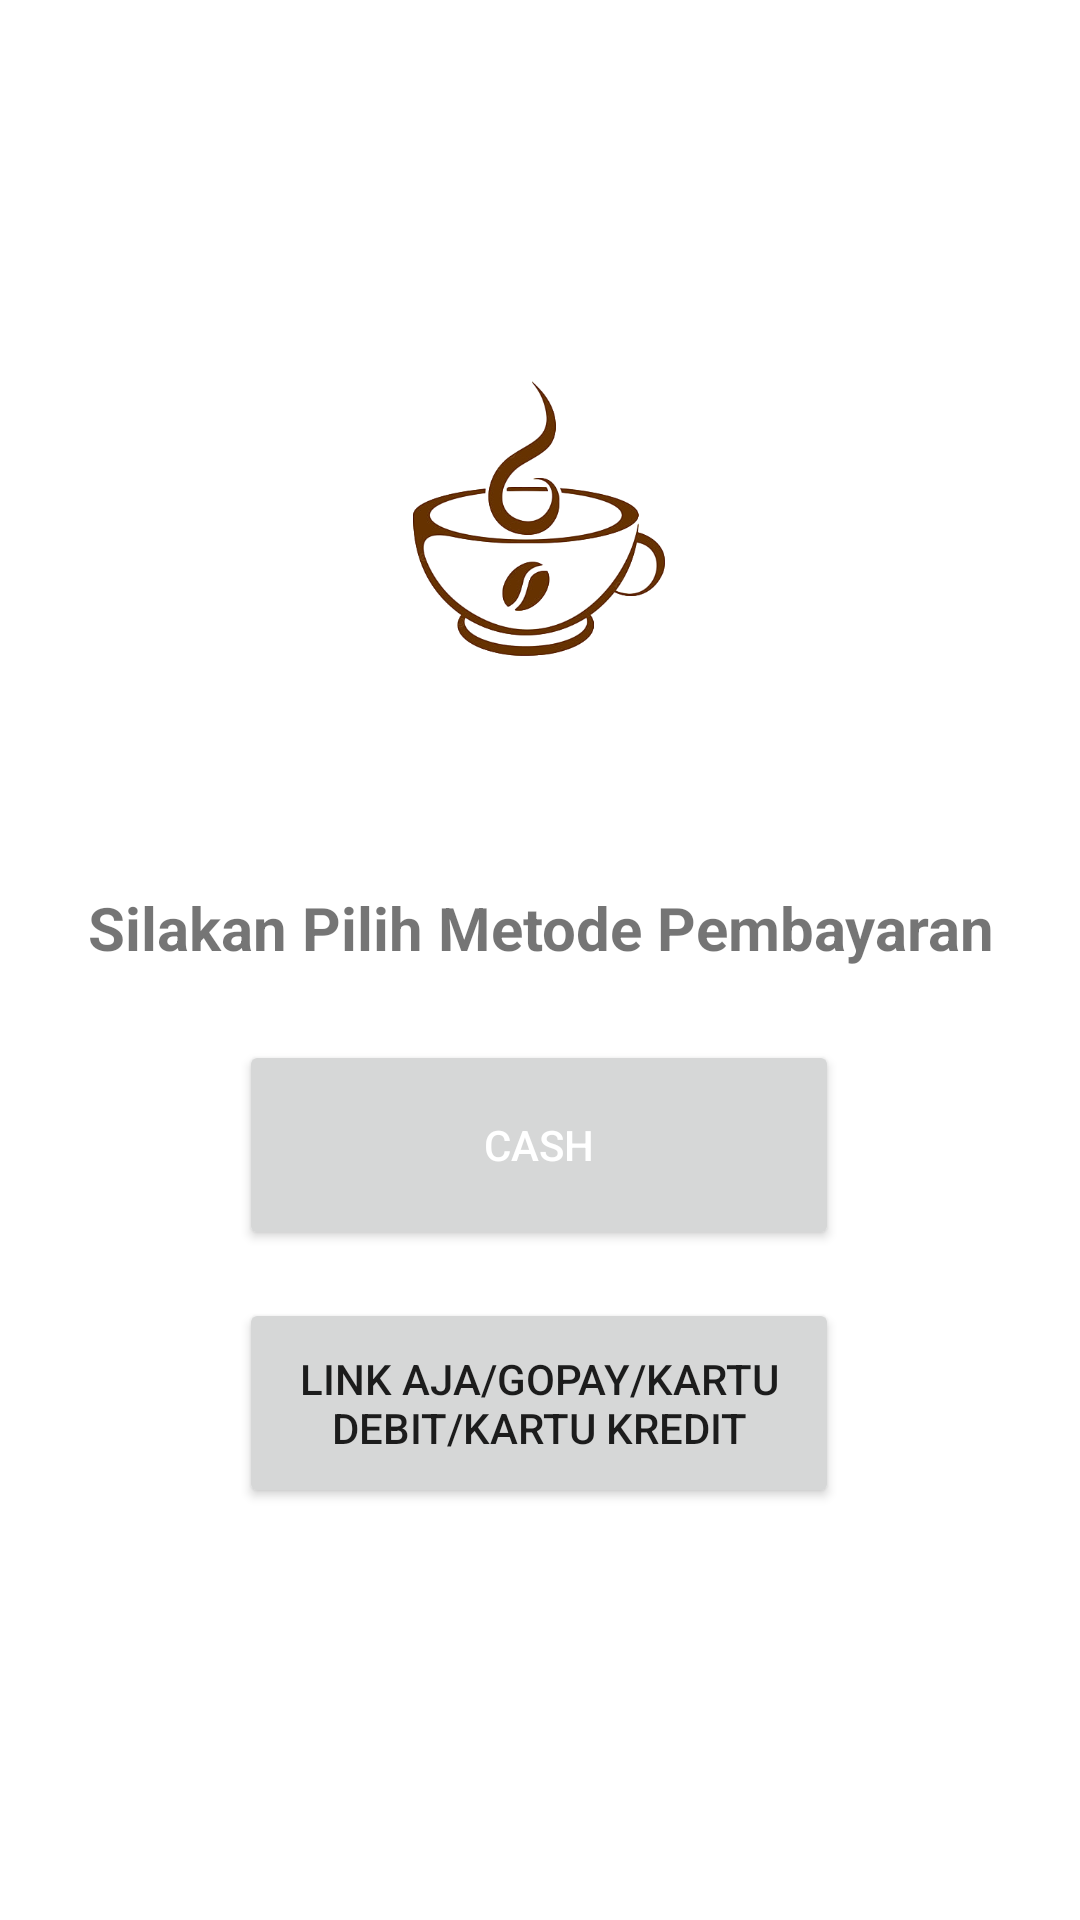

Named icons in this screenshot (1080px×1920px) and their bounding boxes, rect(x1, y1, x2, y2):
cafedendi: rect(413, 381, 665, 656)
